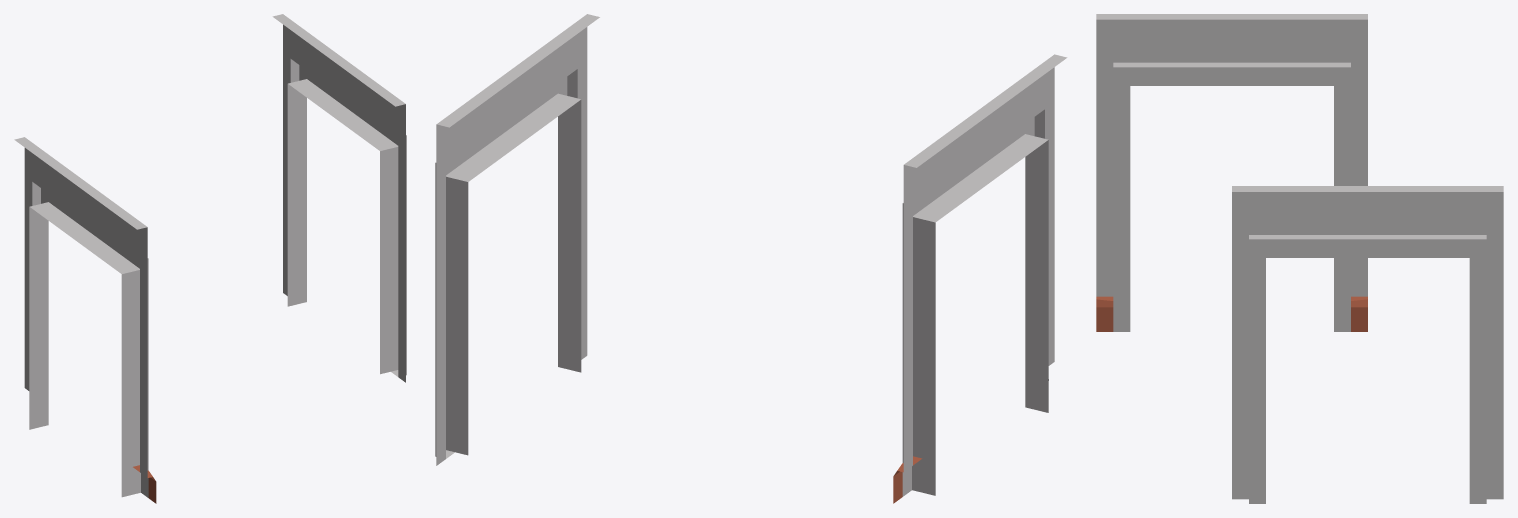
The model's file is AllDoorWays.fbx.
3 views of the same model, side by side, from view 1: azimuth 30°, elevation 25°; view 2: azimuth 150°, elevation 25°; view 3: azimuth 270°, elevation 25° (orthographic). The views are drawn at different scales.
Parts seen in each view (by area): view 1: Wall_Inside_BigWindow.003, Wall_Outside_WindowBig.003; view 2: Wall_Outside_WindowBig.003, Wall_Inside_BigWindow.003; view 3: Wall_Outside_WindowBig.003, Wall_Inside_BigWindow.003.
Boxes of the visible parts, x1,y1,x2,y2 form: Wall_Inside_BigWindow.003: [14, 137, 156, 503]; Wall_Outside_WindowBig.003: [272, 14, 406, 382]; Wall_Outside_WindowBig.003: [435, 14, 599, 465]; Wall_Inside_BigWindow.003: [893, 54, 1067, 503]; Wall_Outside_WindowBig.003: [1232, 186, 1503, 503]; Wall_Inside_BigWindow.003: [1096, 14, 1367, 331].
Bounding box in the file's own units: 318 × 250 × 300.
